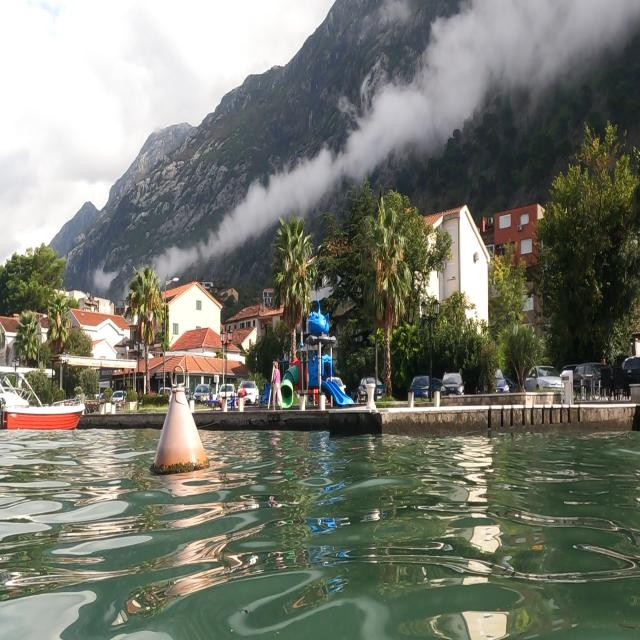boat: (1, 366, 86, 434)
buoy: (149, 364, 211, 479)
